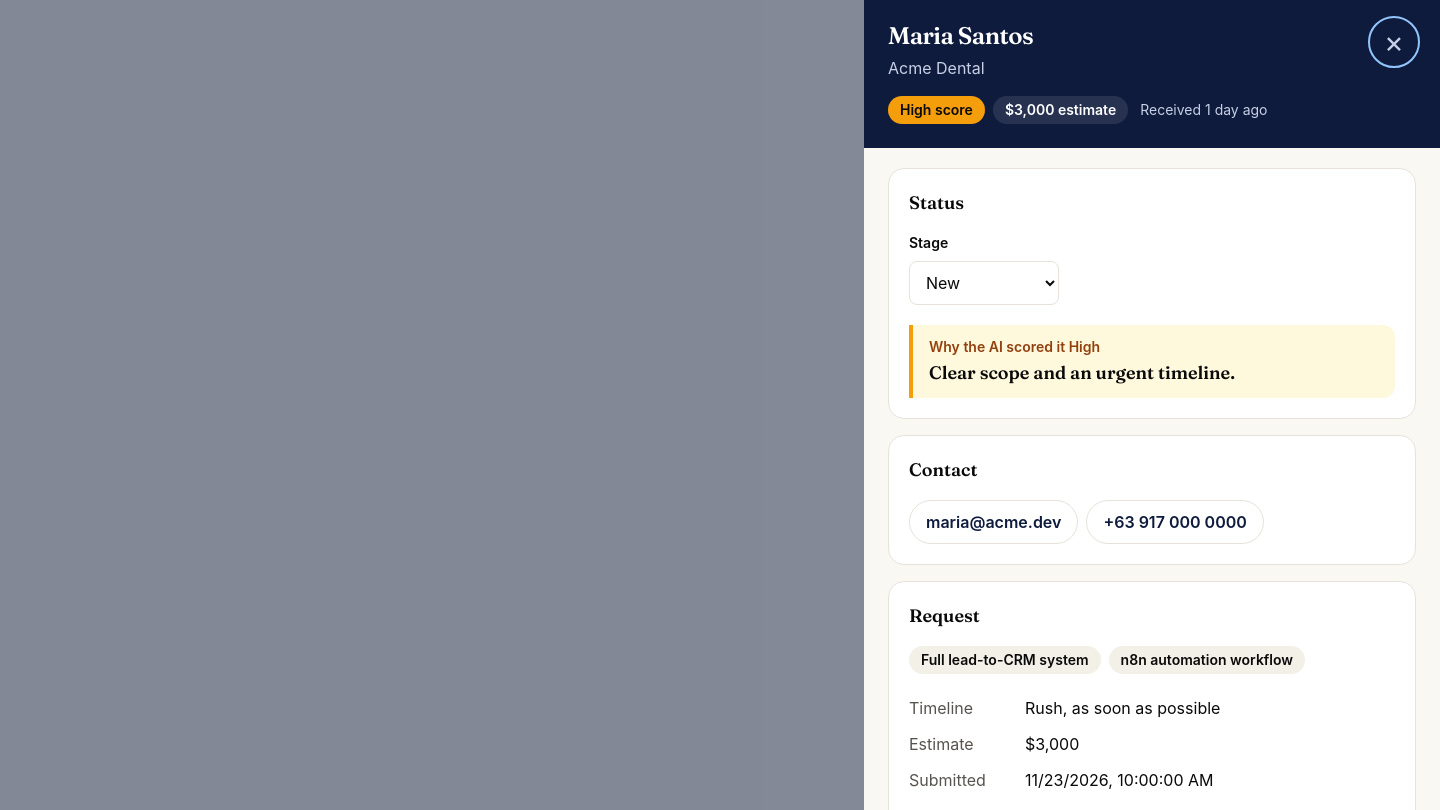
Test: LeadDrawer › closes back to the same board
This screenshot has width=1440, height=810.
Click the button named "Close".
click(1394, 42)  # box left=1372, top=20, right=1416, bottom=64
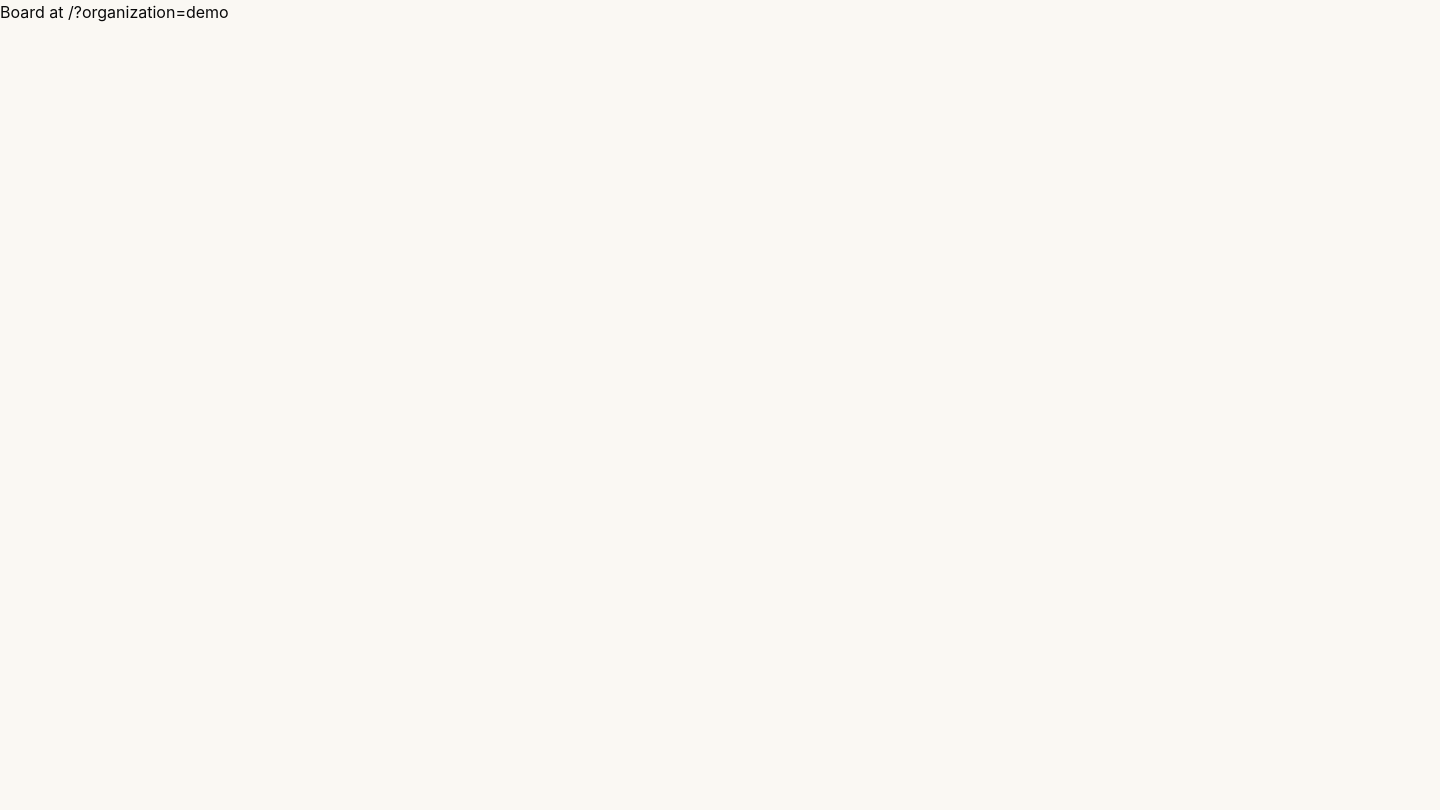
Expected: the text "Board at /?organization=demo" is shown, left=0, top=2, right=229, bottom=22
